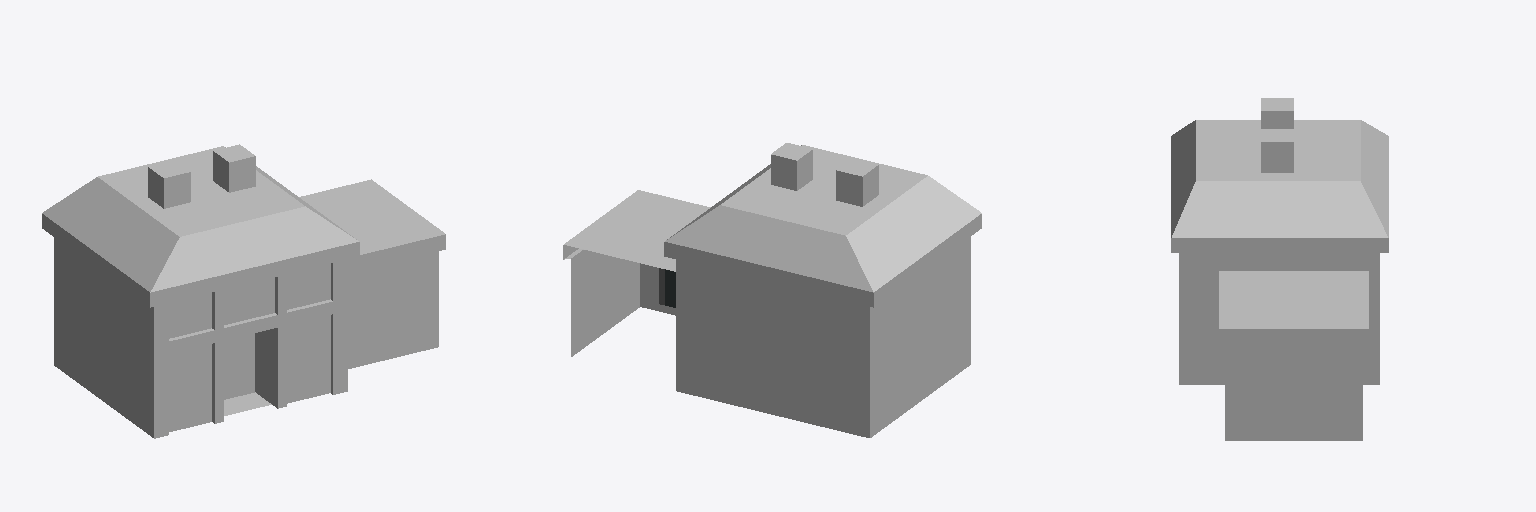
The picture shows the model from 3 angles: view 1: azimuth 30°, elevation 25°; view 2: azimuth 150°, elevation 25°; view 3: azimuth 270°, elevation 25°; orthographic projection.
Visible parts, largest first — view 1: Pokémon_Research_Lab.003_t2_s01_1, Pokémon_Research_Lab.003_t2_s01_2; view 2: Pokémon_Research_Lab.003_t2_s01_1, Pokémon_Research_Lab.003_t2_s01_2, Pokémon_Research_Lab.003_light; view 3: Pokémon_Research_Lab.003_t2_s01_1, Pokémon_Research_Lab.003_t2_s01_2.
Boxes of the visible parts, x1,y1,x2,y2 form: Pokémon_Research_Lab.003_t2_s01_1: [42, 144, 359, 438]; Pokémon_Research_Lab.003_t2_s01_2: [299, 179, 445, 368]; Pokémon_Research_Lab.003_t2_s01_1: [664, 143, 981, 437]; Pokémon_Research_Lab.003_t2_s01_2: [563, 190, 710, 356]; Pokémon_Research_Lab.003_light: [659, 268, 675, 307]; Pokémon_Research_Lab.003_t2_s01_1: [1171, 98, 1388, 384]; Pokémon_Research_Lab.003_t2_s01_2: [1219, 271, 1368, 440].
Bounding box in the file's own units: 132 × 86.08 × 77.75.
Materials: 3 (1 with a texture image).